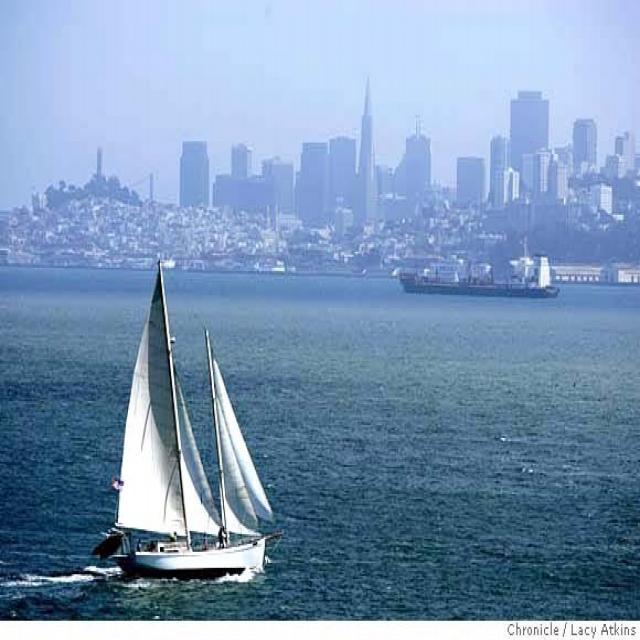Ship: (102, 265, 275, 584)
